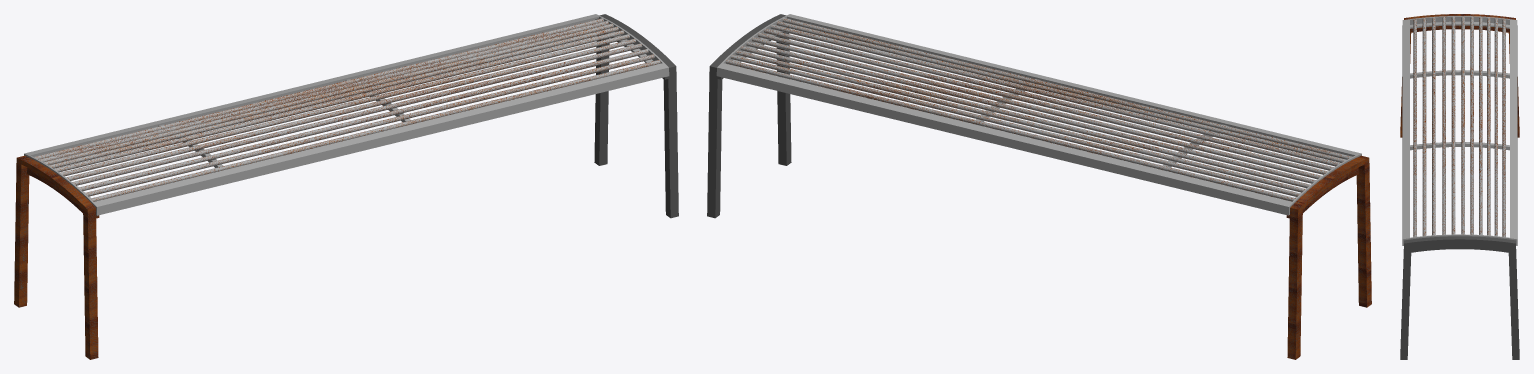
3 renders of one model, left to right at view 1: azimuth 30°, elevation 25°; view 2: azimuth 150°, elevation 25°; view 3: azimuth 270°, elevation 25°, orthographic. The views are drawn at different scales.
Parts seen in each view (by area): view 1: mesh1_mesh1-geometry, mesh7_mesh7-geometry, mesh8_mesh8-geometry, mesh2_mesh2-geometry, mesh3_mesh3-geometry, mesh4_mesh4-geometry; view 2: mesh1_mesh1-geometry, mesh7_mesh7-geometry, mesh8_mesh8-geometry, mesh2_mesh2-geometry, mesh4_mesh4-geometry, mesh3_mesh3-geometry; view 3: mesh1_mesh1-geometry, mesh8_mesh8-geometry, mesh7_mesh7-geometry, mesh4_mesh4-geometry, mesh3_mesh3-geometry, mesh2_mesh2-geometry.
Boxes of the visible parts, <box> form: mesh1_mesh1-geometry: <box>24,14,669,215</box>; mesh7_mesh7-geometry: <box>14,155,99,359</box>; mesh8_mesh8-geometry: <box>594,14,678,218</box>; mesh2_mesh2-geometry: <box>49,26,618,168</box>; mesh3_mesh3-geometry: <box>72,43,642,185</box>; mesh4_mesh4-geometry: <box>54,30,624,172</box>; mesh1_mesh1-geometry: <box>716,14,1361,215</box>; mesh7_mesh7-geometry: <box>1286,155,1371,359</box>; mesh8_mesh8-geometry: <box>707,14,791,218</box>; mesh2_mesh2-geometry: <box>740,46,1310,188</box>; mesh4_mesh4-geometry: <box>746,41,1315,183</box>; mesh3_mesh3-geometry: <box>764,28,1333,170</box>; mesh1_mesh1-geometry: <box>1402,16,1517,245</box>; mesh8_mesh8-geometry: <box>1400,236,1519,359</box>; mesh7_mesh7-geometry: <box>1400,14,1519,137</box>; mesh4_mesh4-geometry: <box>1470,16,1473,234</box>; mesh3_mesh3-geometry: <box>1442,17,1445,234</box>; mesh2_mesh2-geometry: <box>1479,17,1482,234</box>.
Bounding box in the file's own units: 0.9476 × 0.2387 × 0.2123.
